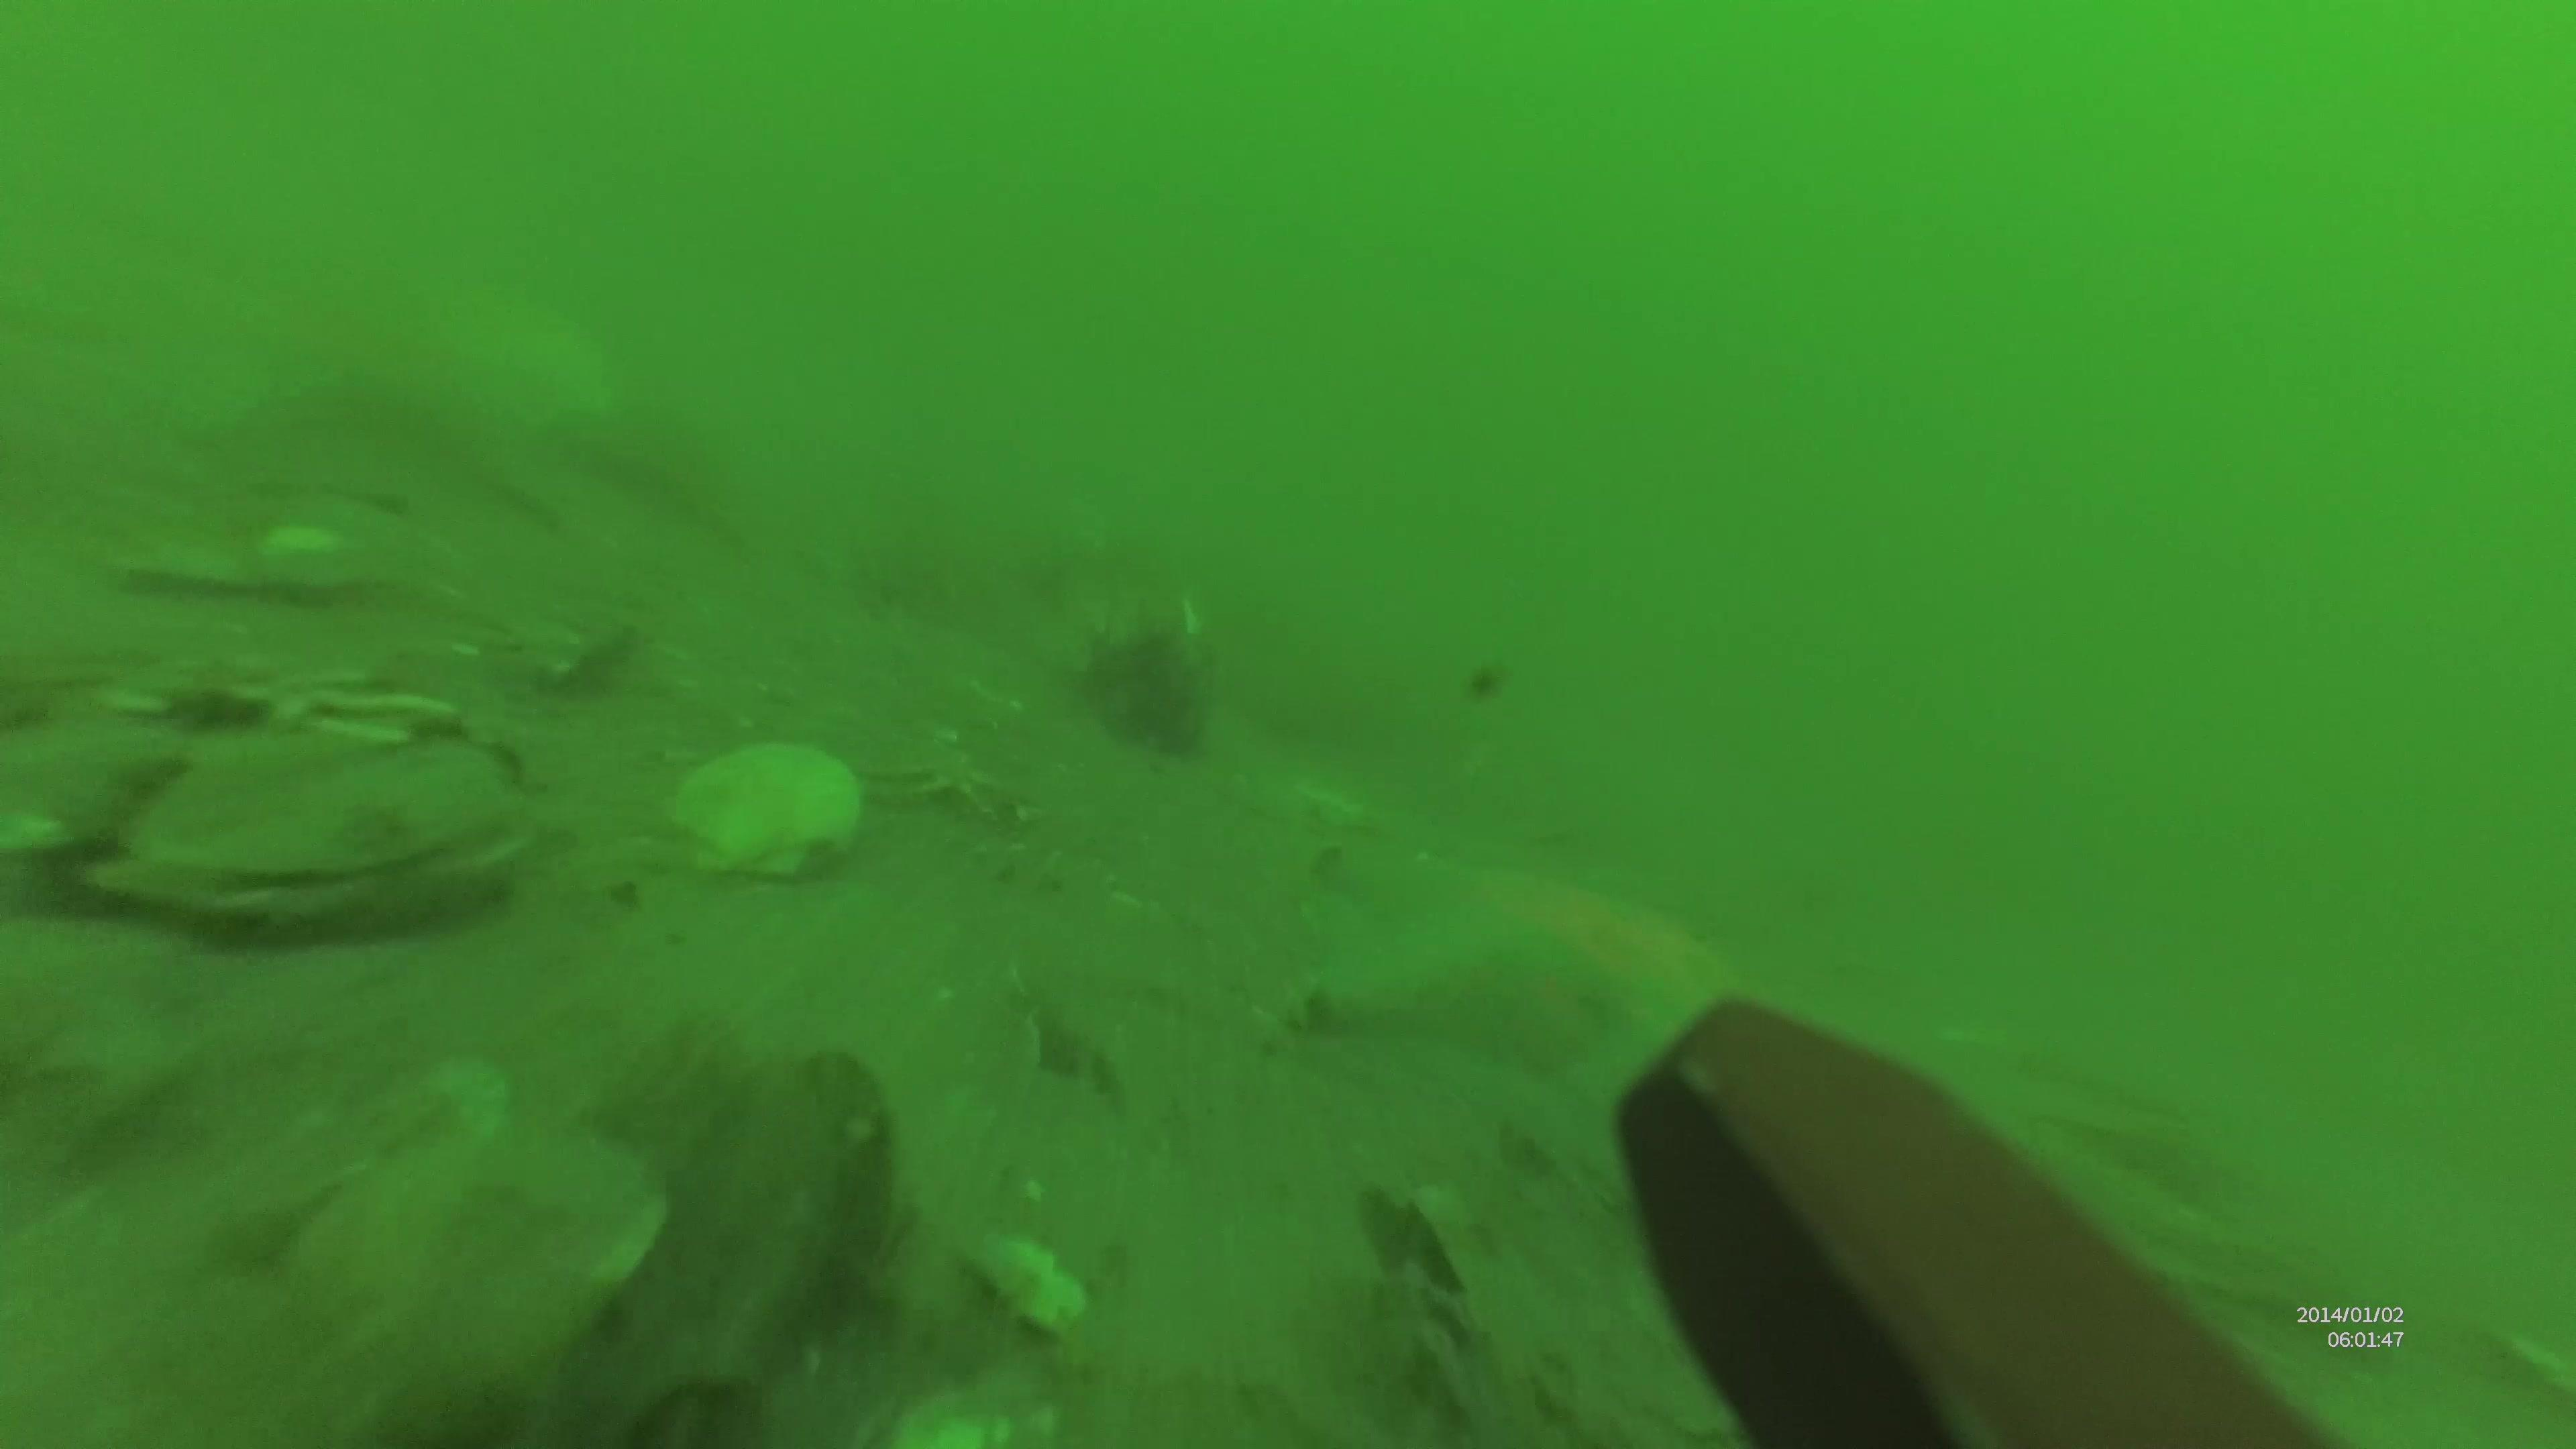scallop: (103, 743, 540, 925), (672, 748, 865, 872)
